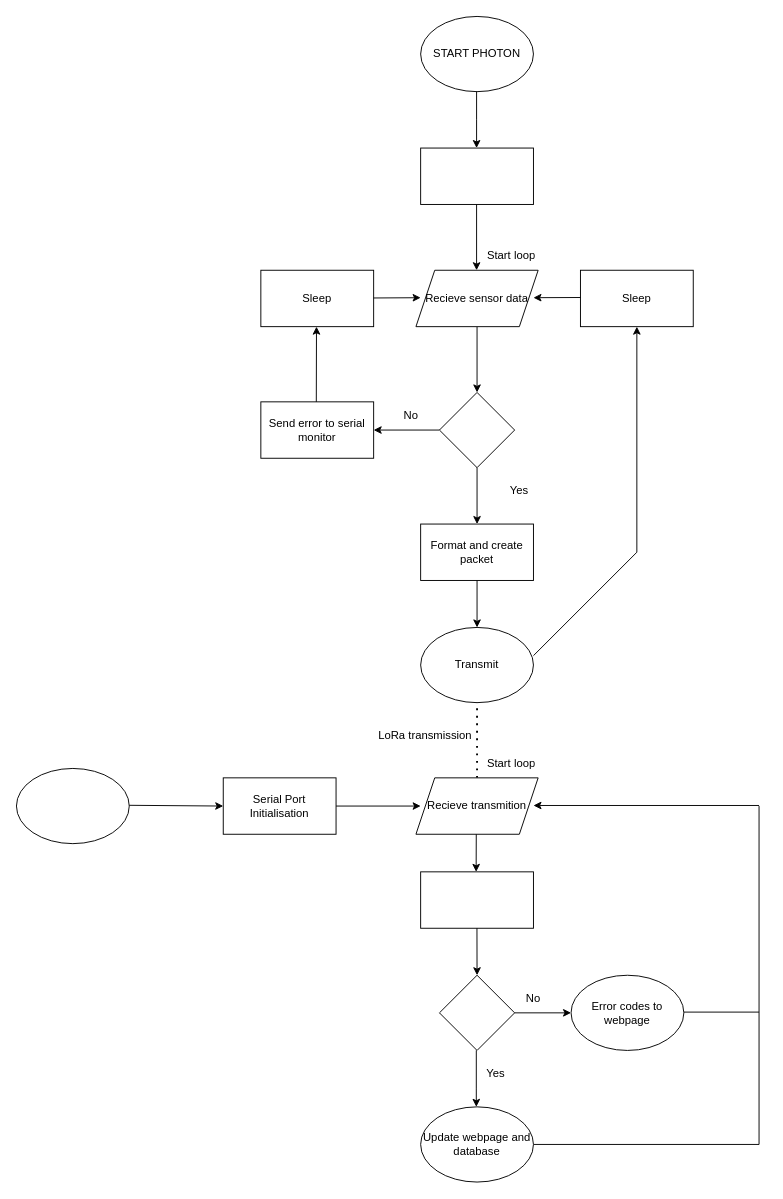
Some shapes in this 783 by 1199 pixel diagram are drawn without their labels. The centre of each missing label's shape, as x and y in pixels:
"Parse" belongs at (x=476, y=899).
"setup()" belongs at (x=476, y=175).
"START RASPBERRY PI" belongs at (x=72, y=806).
"Successful?" belongs at (x=477, y=1012).
"Valid?" belongs at (x=477, y=430).
